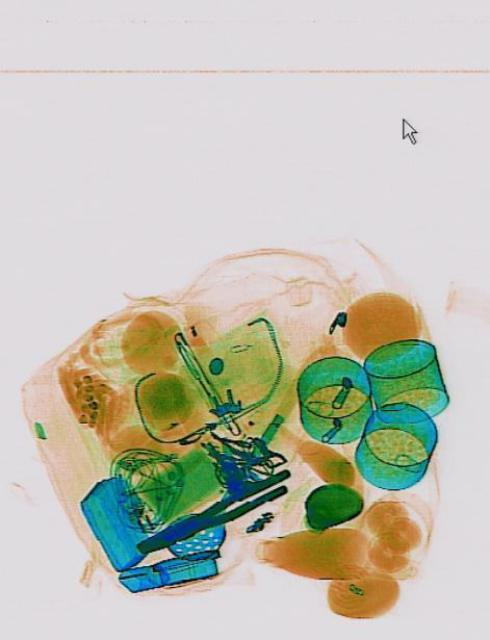Pliers: (131, 462, 293, 560)
